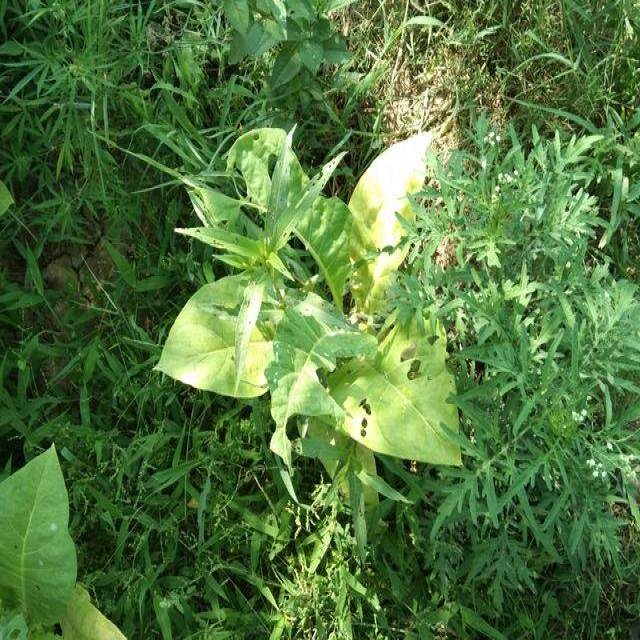crop: (178, 140, 462, 470), (0, 461, 114, 640)
